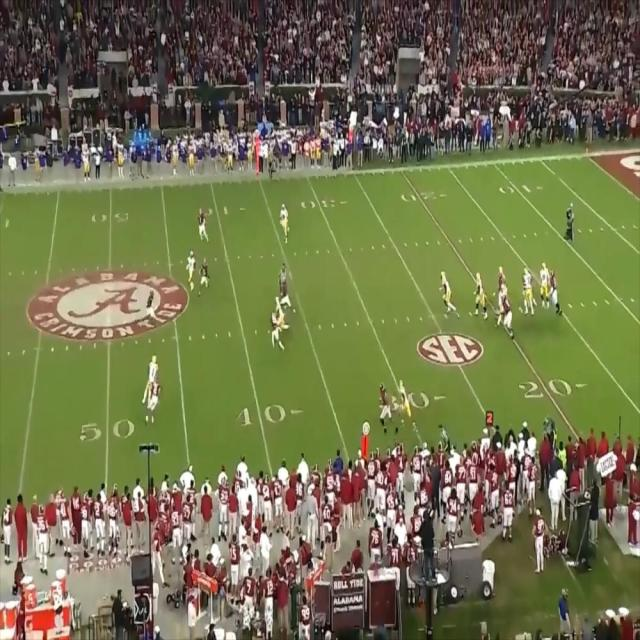db: (278, 278, 294, 314), (150, 378, 160, 421), (280, 203, 289, 242), (270, 309, 279, 348), (149, 290, 158, 326), (198, 210, 207, 242)
lb: (378, 382, 390, 425), (199, 259, 207, 290)
skill: (276, 294, 288, 337), (398, 378, 410, 419), (187, 248, 196, 286), (147, 356, 158, 384)
